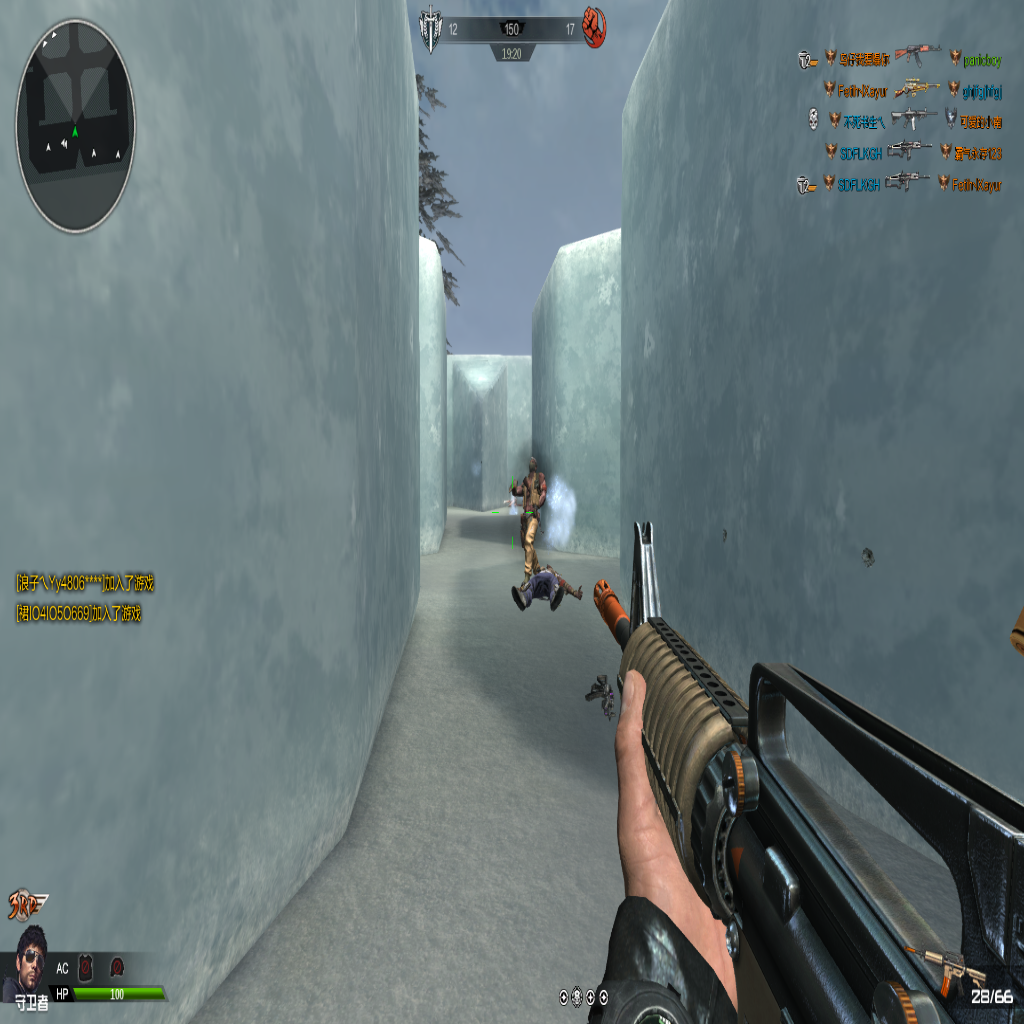tt: (513, 454, 547, 587)
